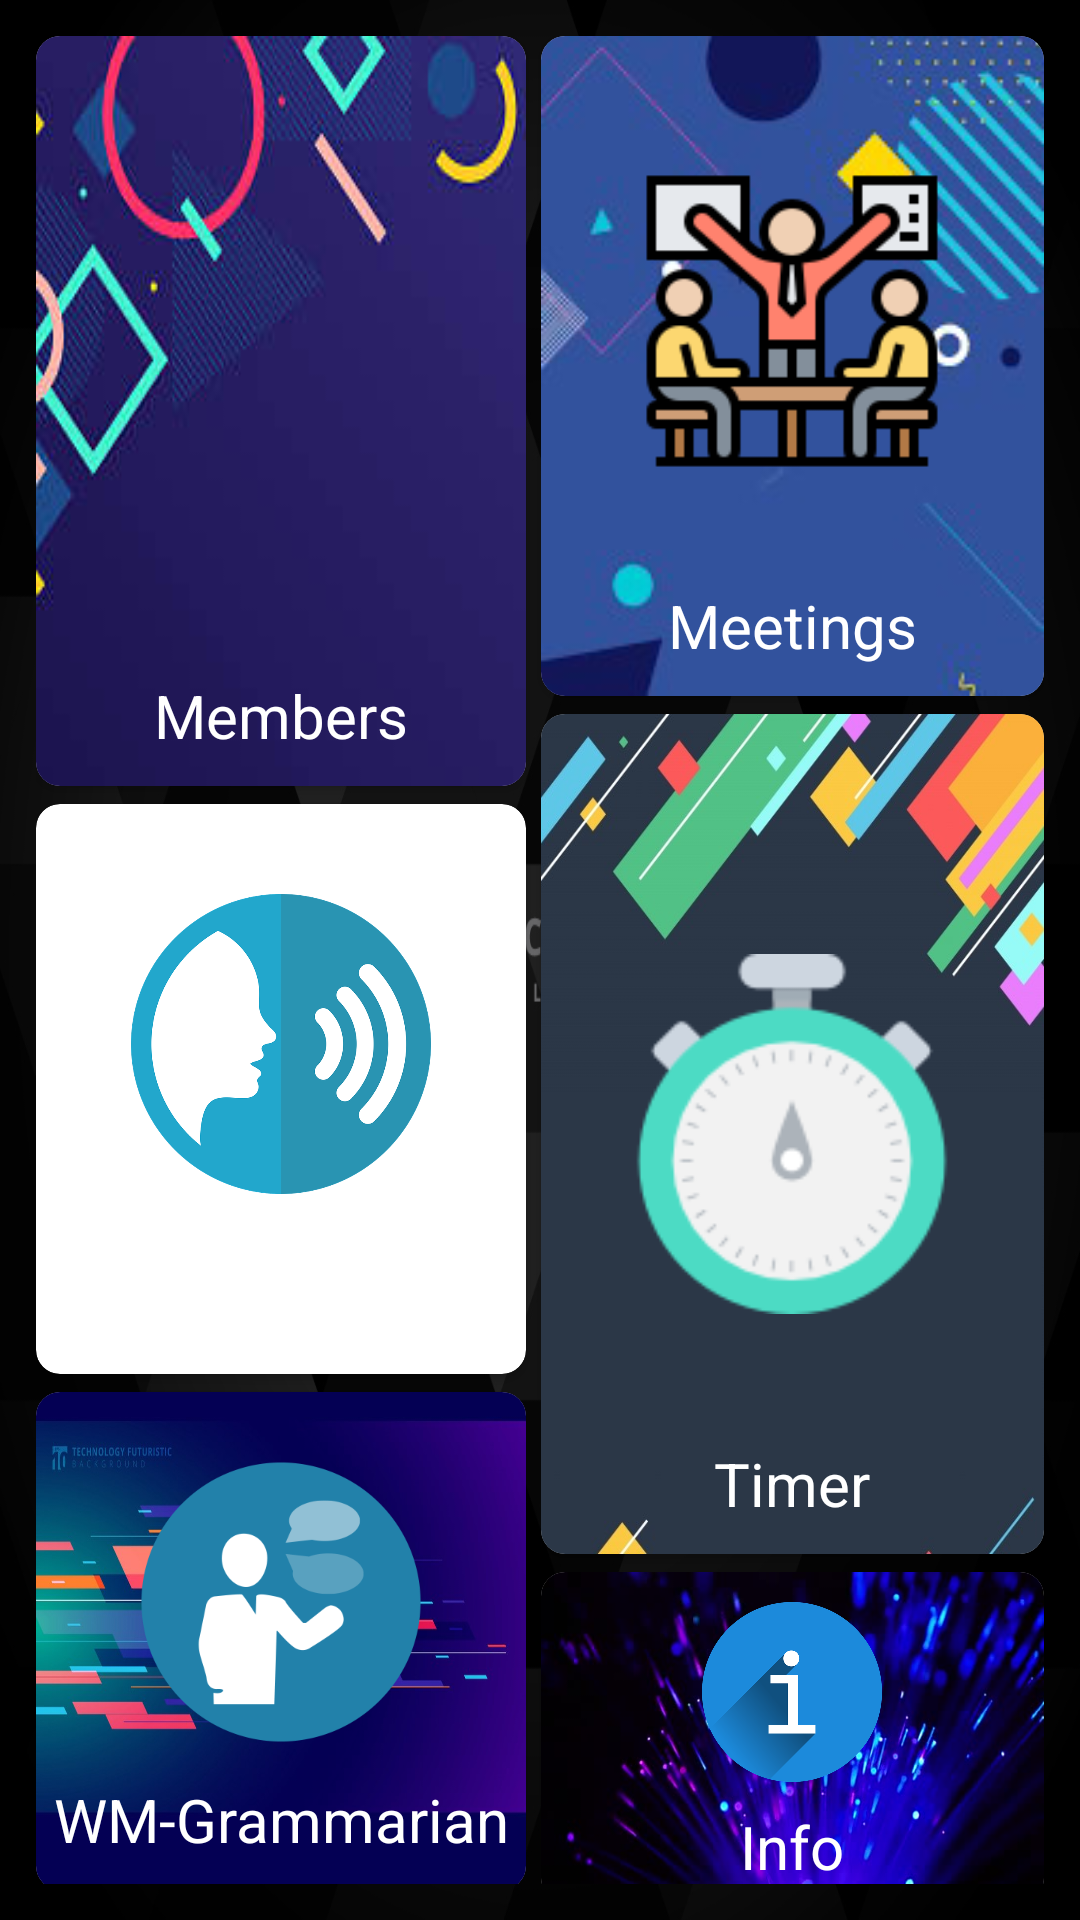

Named icons in this screenshot (1080 × 1920) and their centers, [x,y]:
stopclock: [792,1134]
